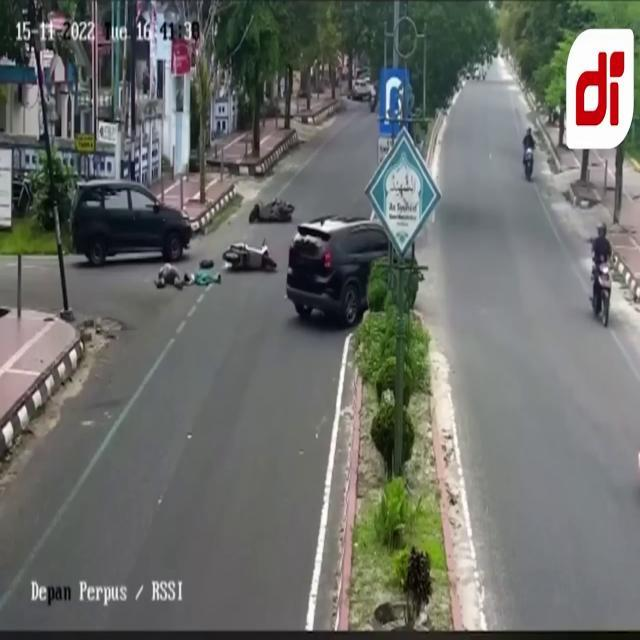multiple_accident: (149, 178, 412, 344)
